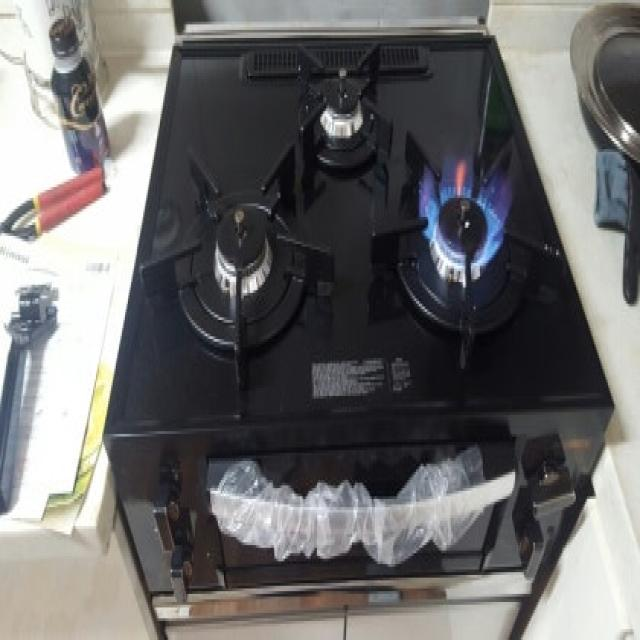knob_OFF: (379, 141, 556, 334)
knob_ON: (146, 173, 351, 389), (262, 54, 427, 192)
